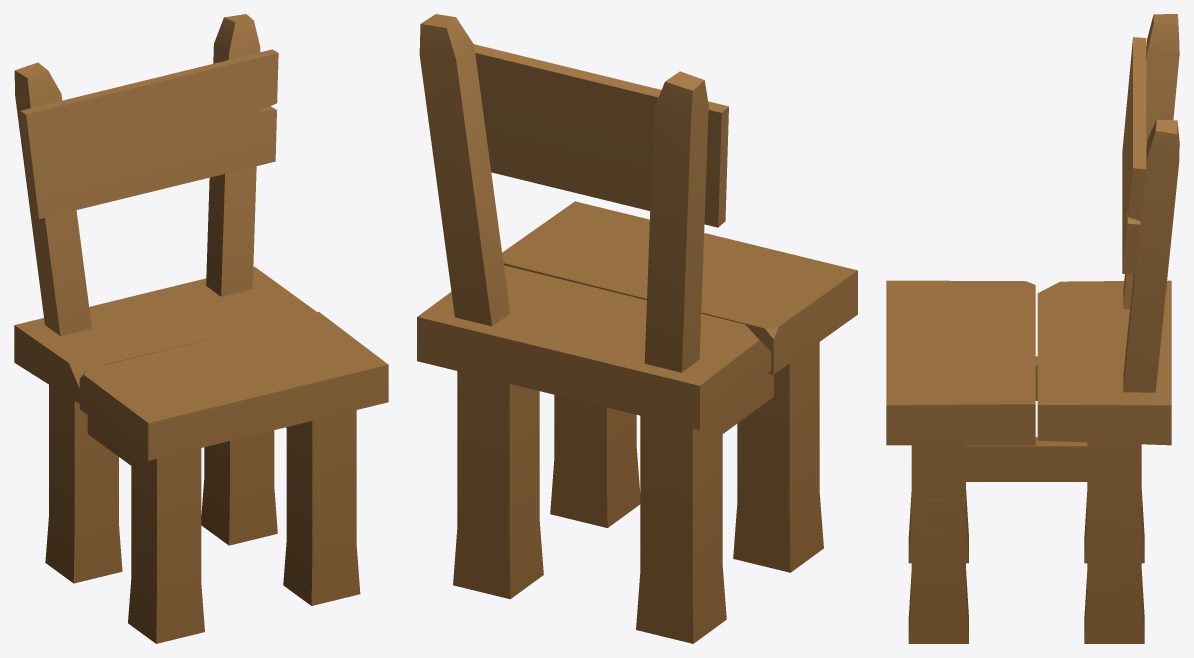
Rendered from chair.FBX.
3 views of the same model, side by side, from view 1: azimuth 30°, elevation 25°; view 2: azimuth 150°, elevation 25°; view 3: azimuth 270°, elevation 25° (orthographic). The views are drawn at different scales.
Visible parts, largest first — view 1: chair; view 2: chair; view 3: chair.
Part boxes in pixels (x1,y1,x2,y2): chair: [14, 14, 388, 643]; chair: [417, 14, 857, 643]; chair: [886, 14, 1179, 643].
Size of the model in its own units: 104 by 97.89 by 192.
